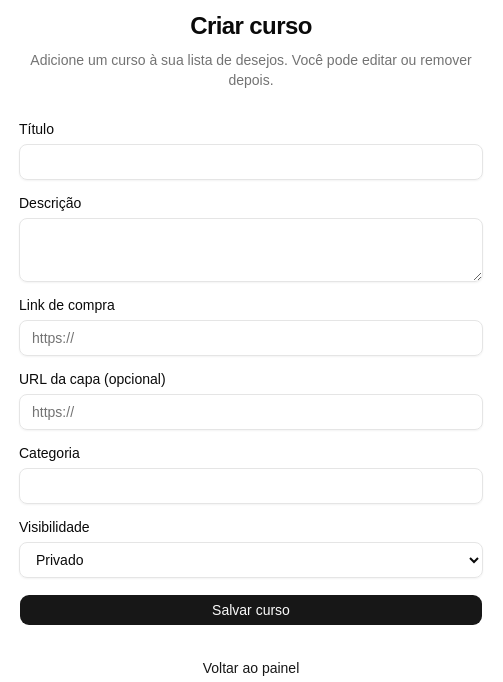
it: CreateCoursePage › shows validation when title is empty
Click the button "Salvar curso" at (251,610), box [19,594,483,626]
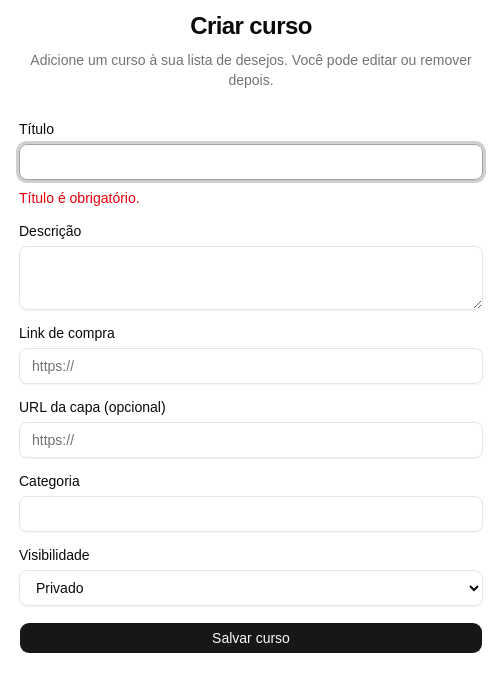
Check: the text "Título é obrigatório." is shown, box [19,190,140,206]
